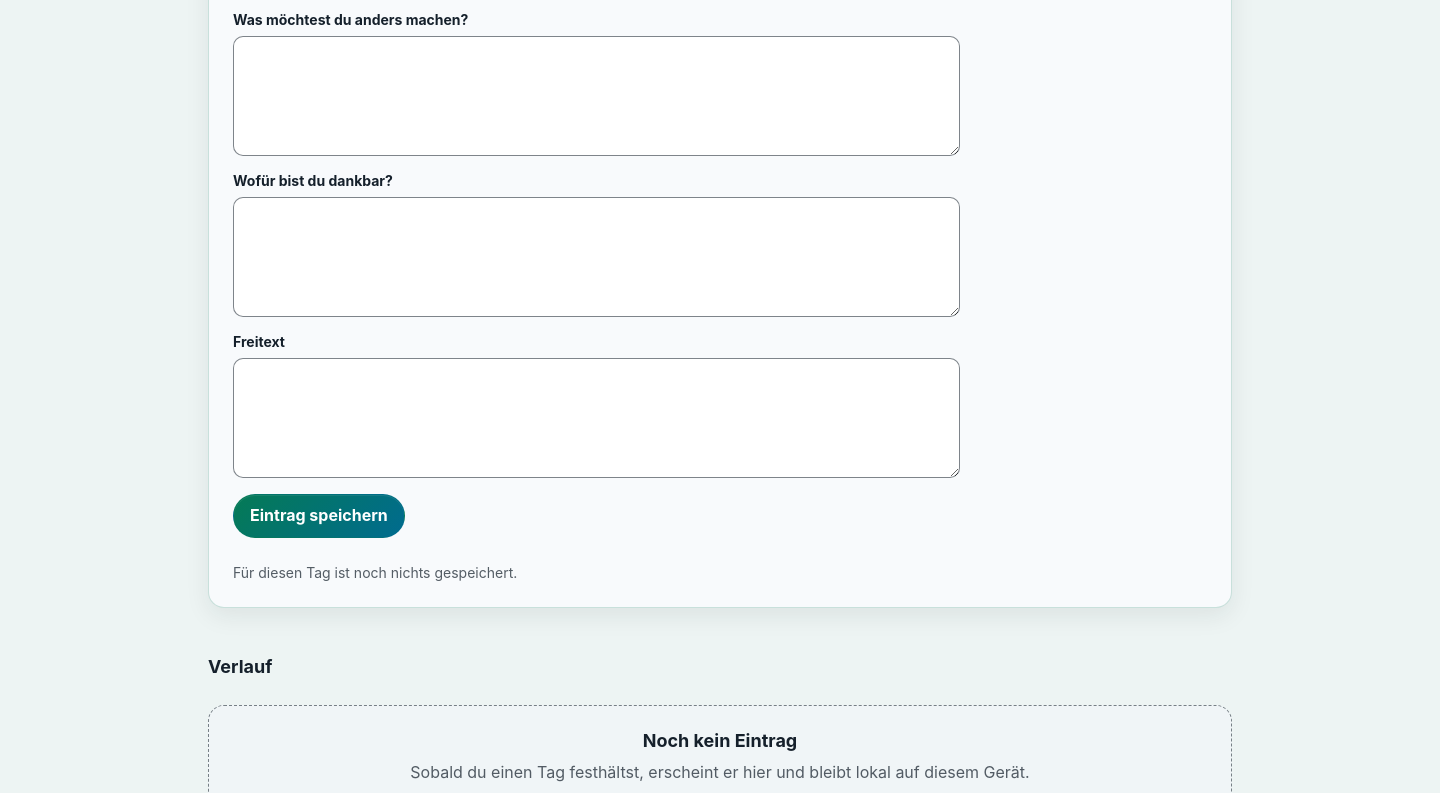
Test: JournalPage › explains an empty entry instead of storing it
(page scrolled)
What coordinates should you click on to do the following:
click the button "Eintrag speichern"
I would click on:
 (319, 516)
Its box is [233,494,405,538].
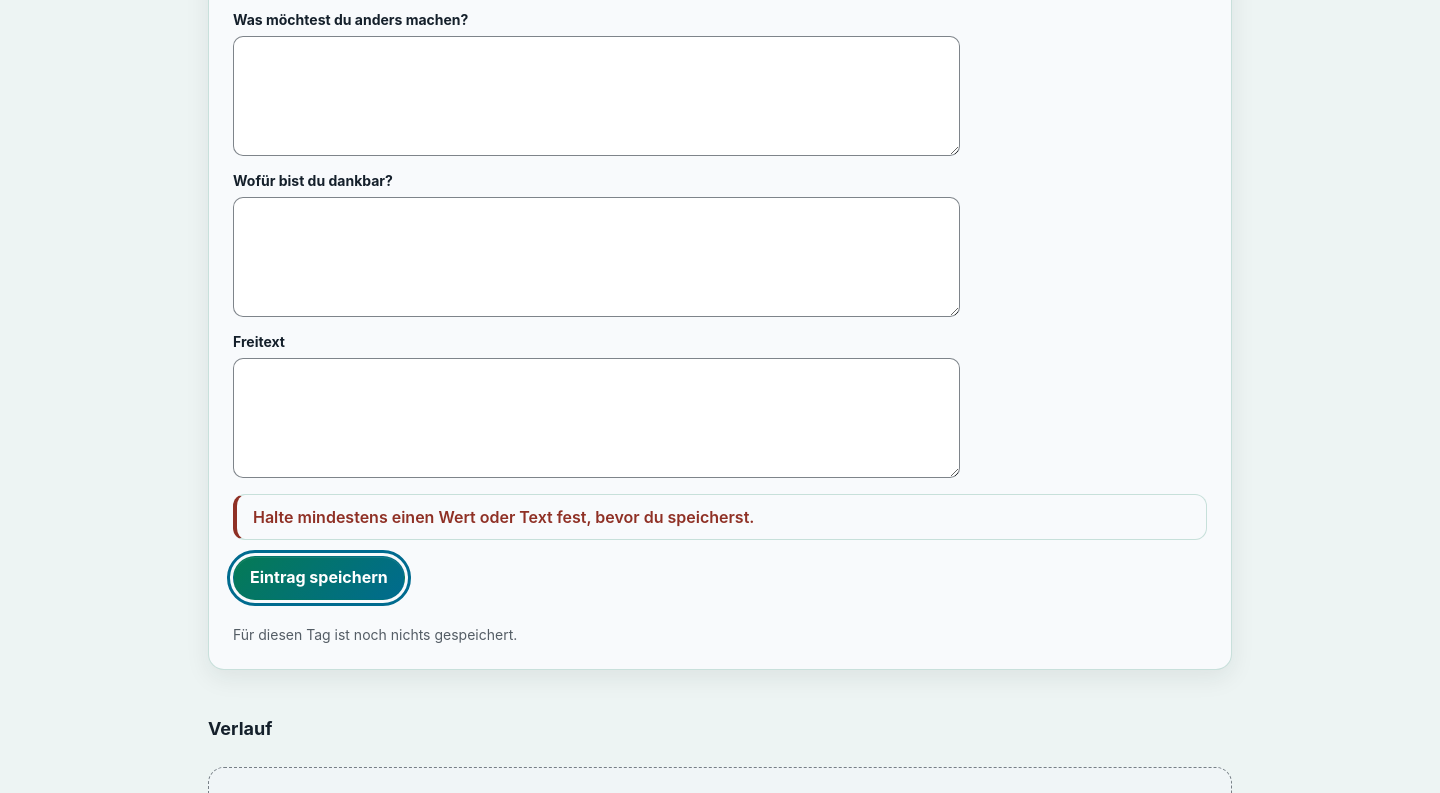
Expected: the text "Halte mindestens einen Wert oder Text fest, bevor du speicherst." is shown, [233,494,1207,540]
